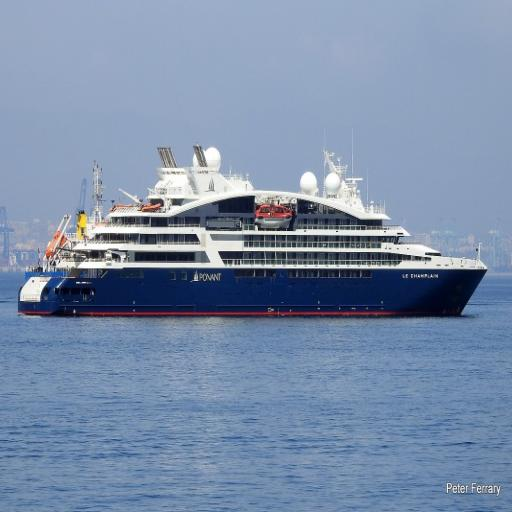cruises: (15, 141, 491, 325)
